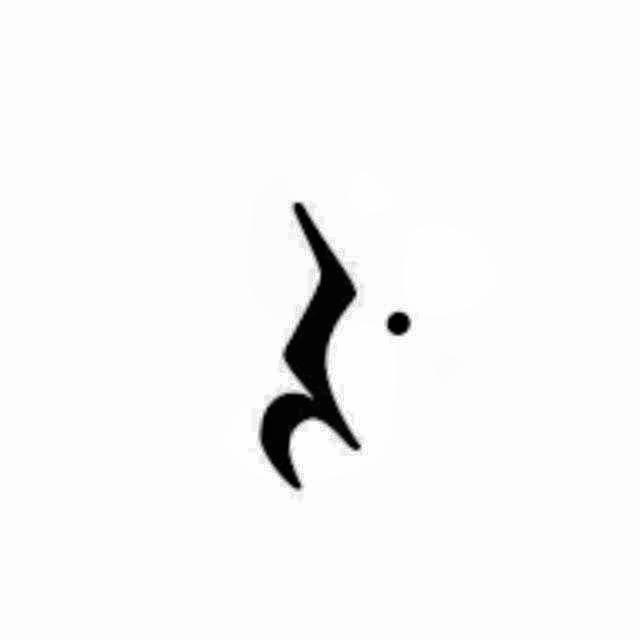Quarter-rest: (246, 190, 436, 502)
